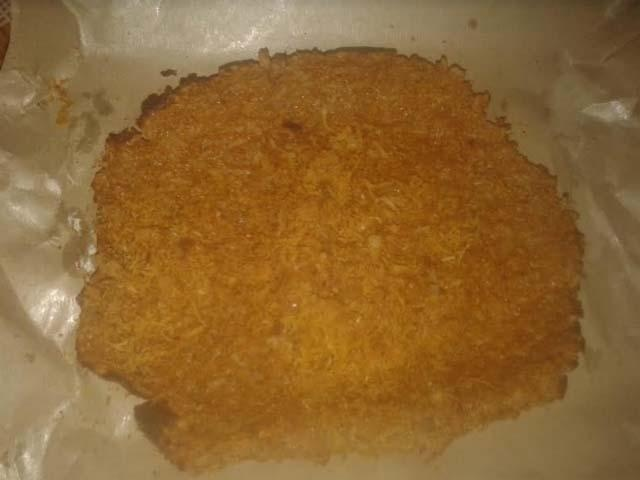kerak_telor: (74, 47, 589, 480)
